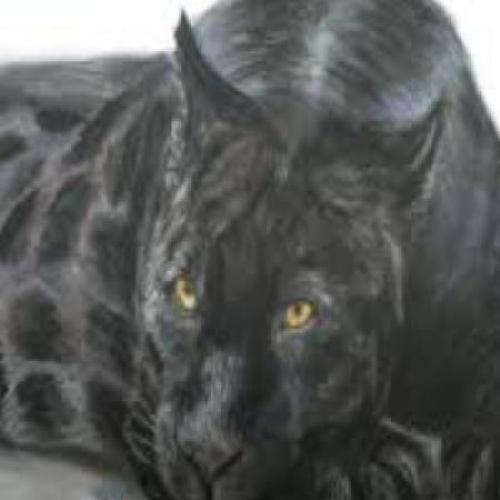panther-endangered: (4, 8, 488, 492)
